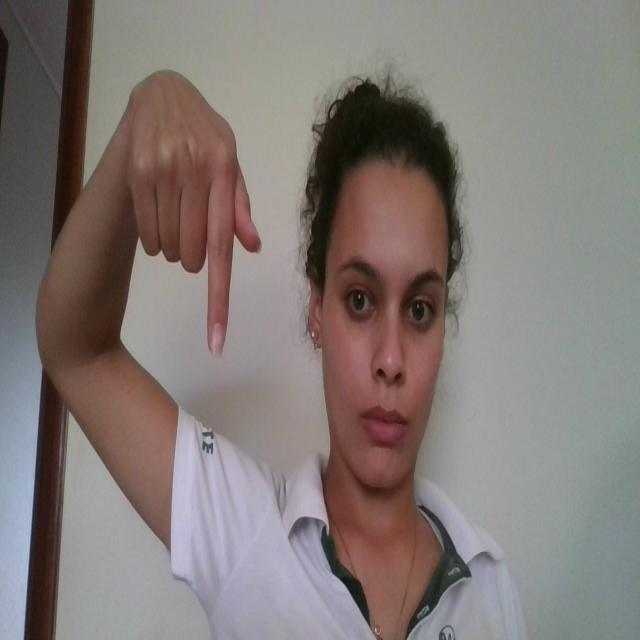Q: (126, 64, 268, 368)
